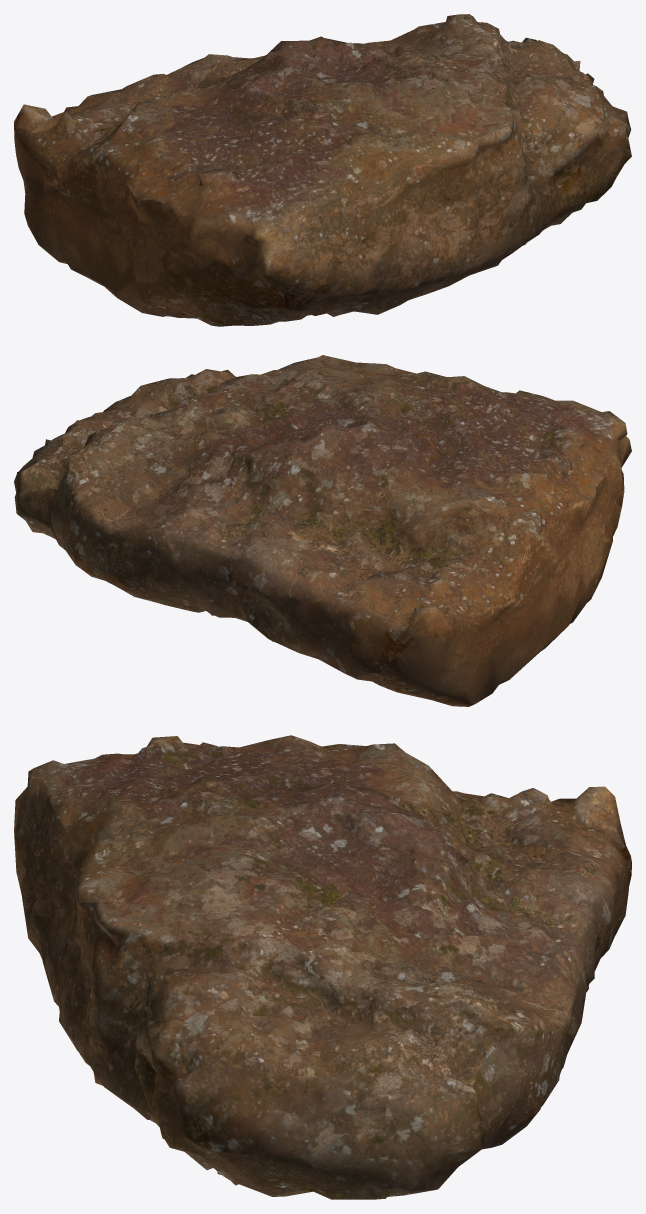
Rendered from SM_yieqccc_tier_2.gltf.
The picture shows the model from 3 angles, top to bottom: view 1: azimuth 30°, elevation 25°; view 2: azimuth 150°, elevation 25°; view 3: azimuth 270°, elevation 25°; orthographic projection. The views are drawn at different scales.
Parts seen in each view (by area): view 1: yieqccc_LOD2_TIER2_000; view 2: yieqccc_LOD2_TIER2_000; view 3: yieqccc_LOD2_TIER2_000.
Boxes of the visible parts, x1,y1,x2,y2 form: yieqccc_LOD2_TIER2_000: (14, 14, 631, 326); yieqccc_LOD2_TIER2_000: (14, 355, 631, 706); yieqccc_LOD2_TIER2_000: (14, 735, 631, 1199).
Size of the model in its own units: 1.15 by 0.4469 by 0.927.
1 material, 1 textured.
